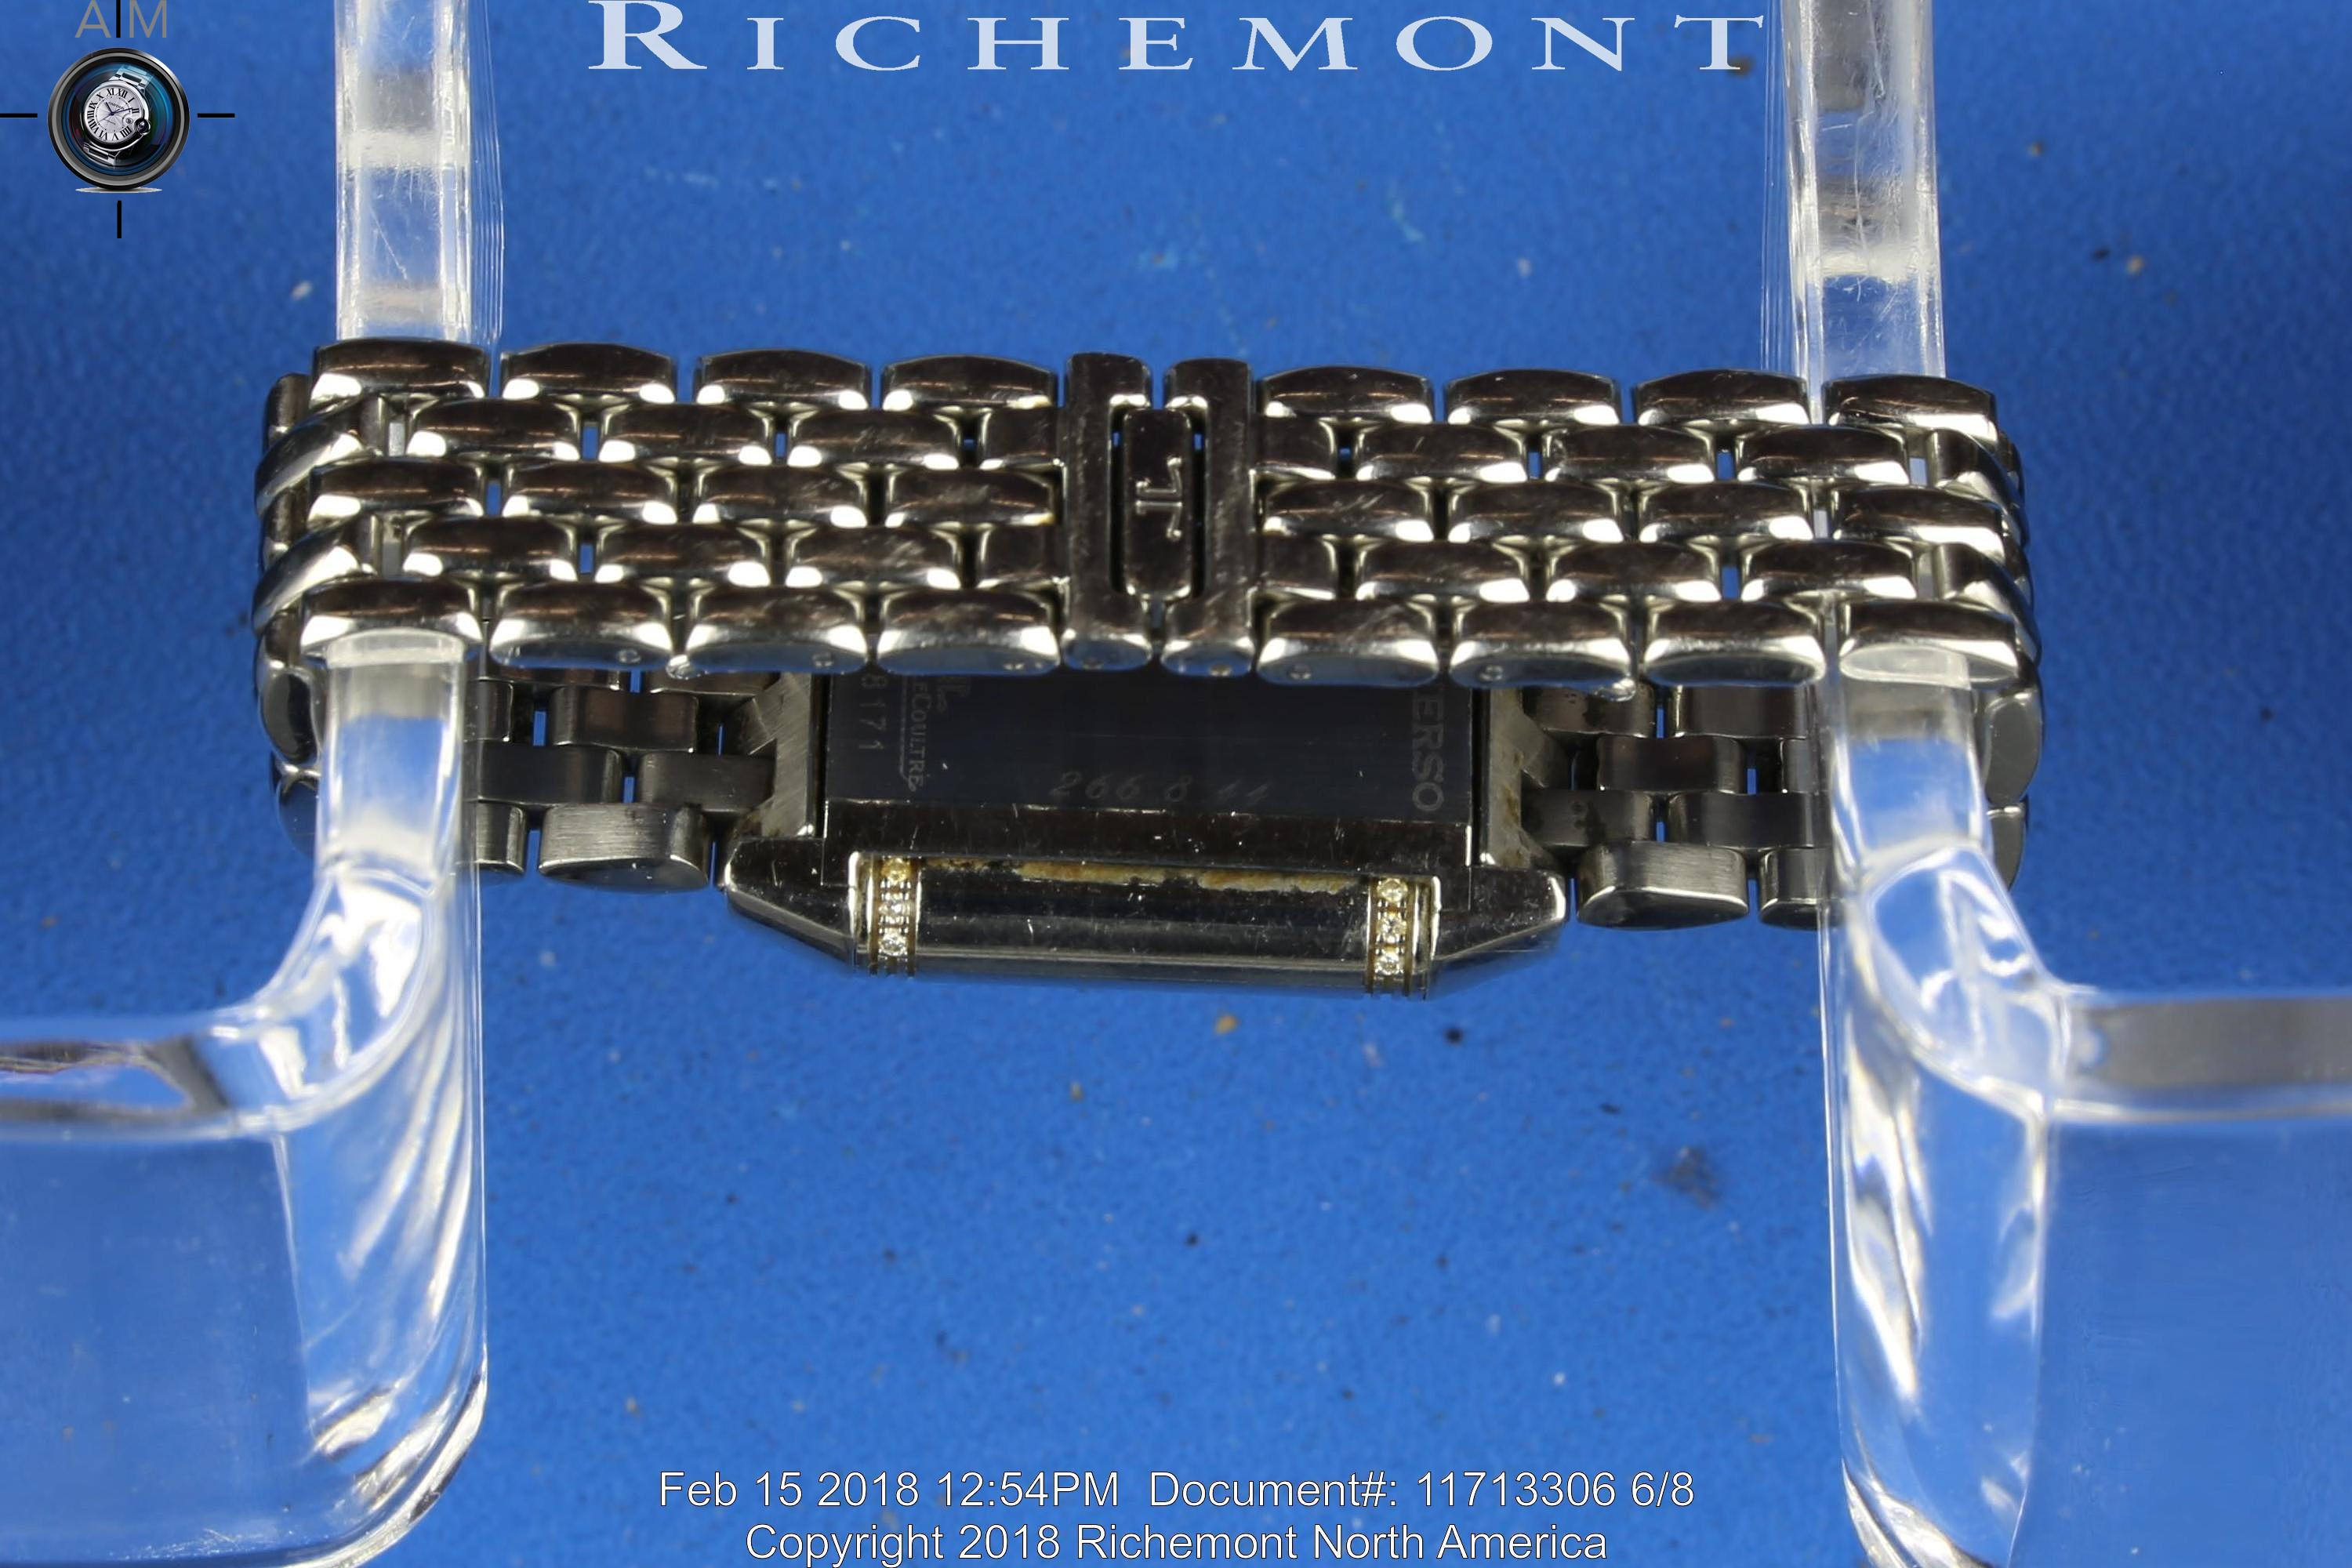Watch Back Case: (714, 667, 1580, 1003)
